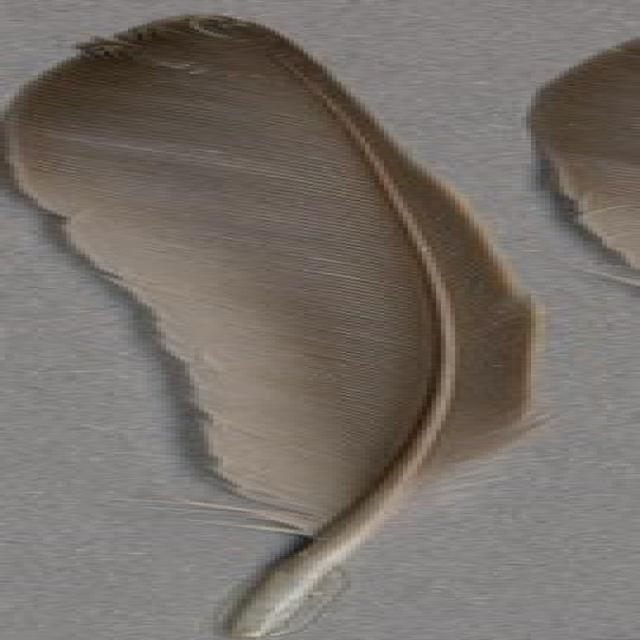feather: (0, 15, 588, 640)
